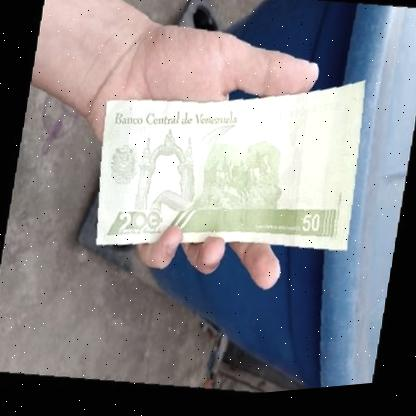fifty-back-vef: (91, 58, 366, 274)
